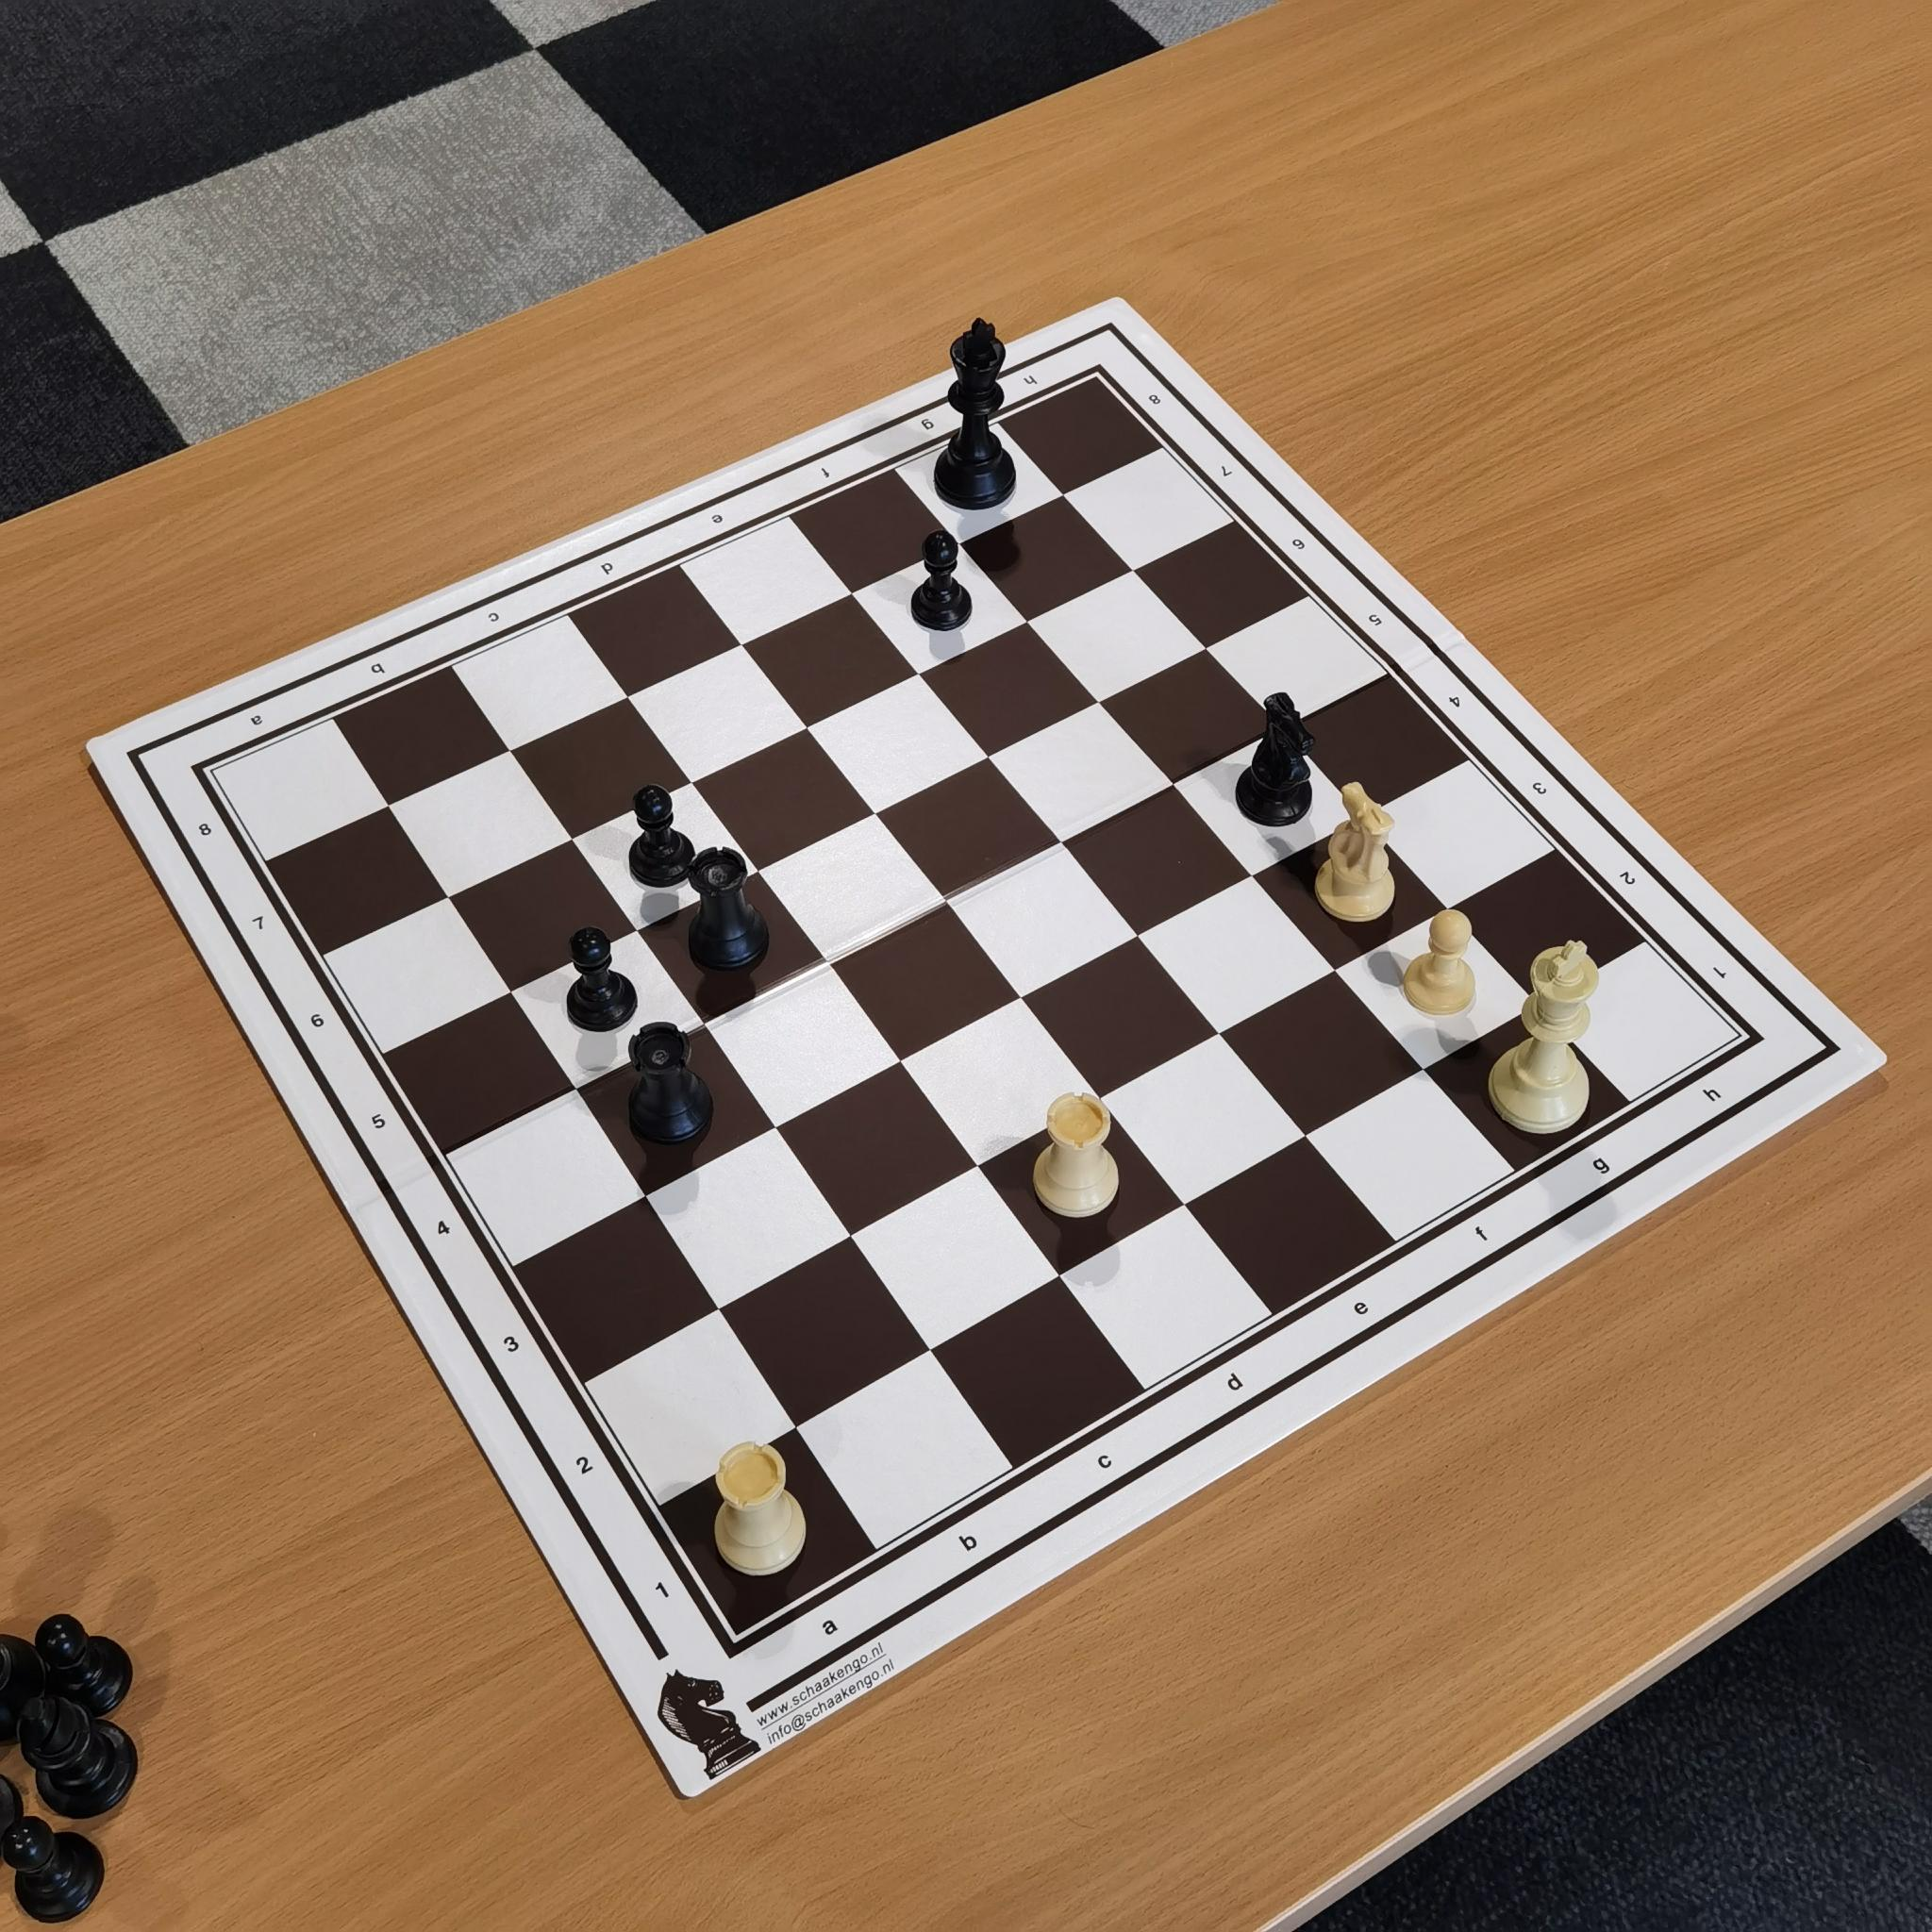corners: (704, 1611, 767, 1679), (1712, 1015, 1783, 1062), (175, 750, 236, 794), (1069, 353, 1124, 402)
eight: (191, 800, 225, 854), (1140, 375, 1174, 422)
one: (643, 1561, 687, 1615), (1700, 955, 1749, 999)
